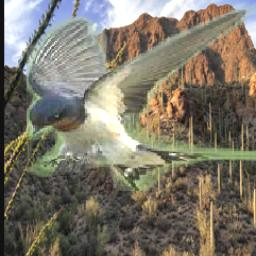Swallow: (27, 3, 256, 191)
